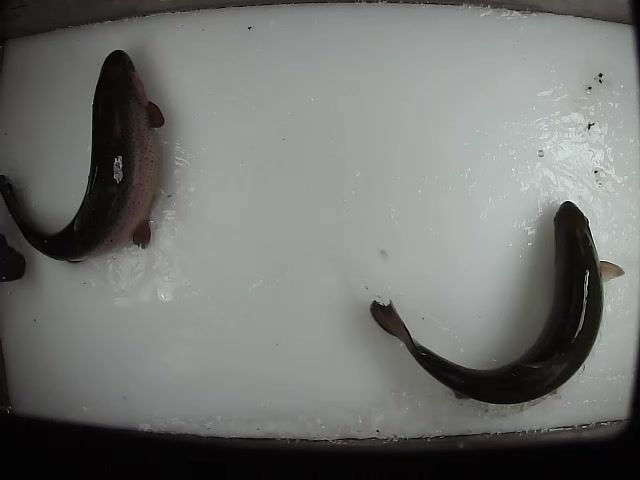fish: (370, 200, 627, 409), (1, 47, 168, 265)
